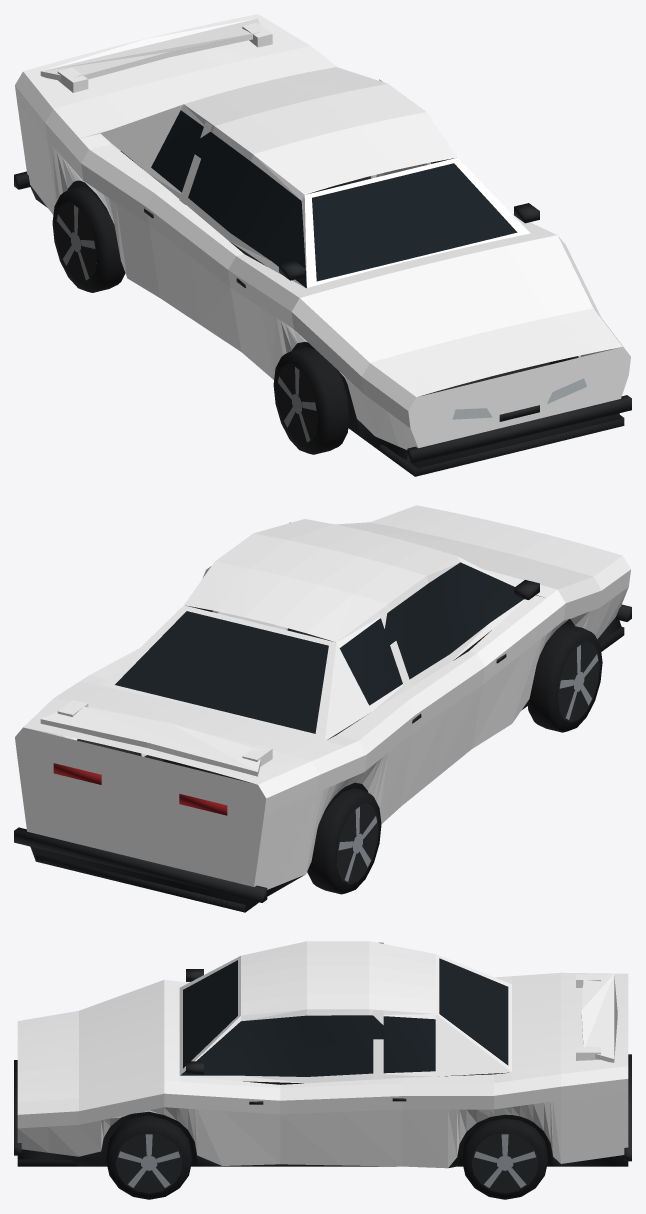
The model's file is hoshino_vento.glb.
3 views of the same model, one above another, from view 1: azimuth 30°, elevation 25°; view 2: azimuth 150°, elevation 25°; view 3: azimuth 270°, elevation 25° (orthographic). The views are drawn at different scales.
Parts seen in each view (by area): view 1: Body_Paint, Body_Details, Mount_FrontLeft_Wheel_Details, Mount_RearLeft_Wheel_Details; view 2: Body_Paint, Body_Details, Mount_FrontLeft_Wheel_Details, Mount_RearLeft_Wheel_Details; view 3: Body_Paint, Body_Details, Mount_FrontRight_Wheel_Details, Mount_RearRight_Wheel_Details.
Part boxes in pixels (x1,y1,x2,y2): Body_Paint: (15, 14, 630, 449); Body_Details: (14, 110, 631, 476); Mount_FrontLeft_Wheel_Details: (273, 347, 349, 454); Mount_RearLeft_Wheel_Details: (52, 186, 125, 292); Body_Paint: (15, 505, 630, 889); Body_Details: (14, 522, 631, 912); Mount_FrontLeft_Wheel_Details: (527, 624, 602, 732); Mount_RearLeft_Wheel_Details: (307, 788, 381, 894); Body_Paint: (17, 941, 628, 1168); Body_Details: (14, 958, 631, 1167); Mount_FrontRight_Wheel_Details: (106, 1115, 192, 1199); Mount_RearRight_Wheel_Details: (462, 1118, 548, 1199).
Size of the model in its own units: 1.91 by 1.38 by 4.45.
2 materials, 1 textured.
